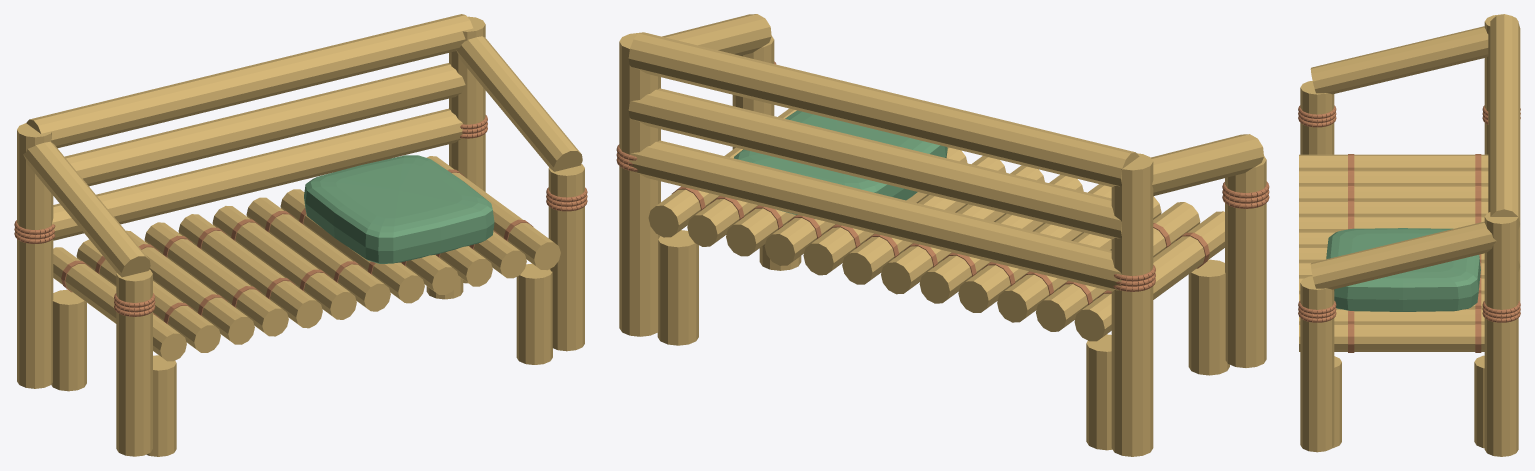
The model's file is bamboo-slat-couch.glb.
The picture shows the model from 3 angles, left to right: view 1: azimuth 30°, elevation 25°; view 2: azimuth 150°, elevation 25°; view 3: azimuth 270°, elevation 25°; orthographic projection. The views are drawn at different scales.
Visible parts, largest first — view 1: bamboo-slat-couch; view 2: bamboo-slat-couch; view 3: bamboo-slat-couch.
Boxes of the visible parts, x1,y1,x2,y2 form: bamboo-slat-couch: (14,14,587,456); bamboo-slat-couch: (616,14,1269,456); bamboo-slat-couch: (1298,14,1520,456).
Size of the model in its own units: 1.93 by 1.04 by 0.8578.
